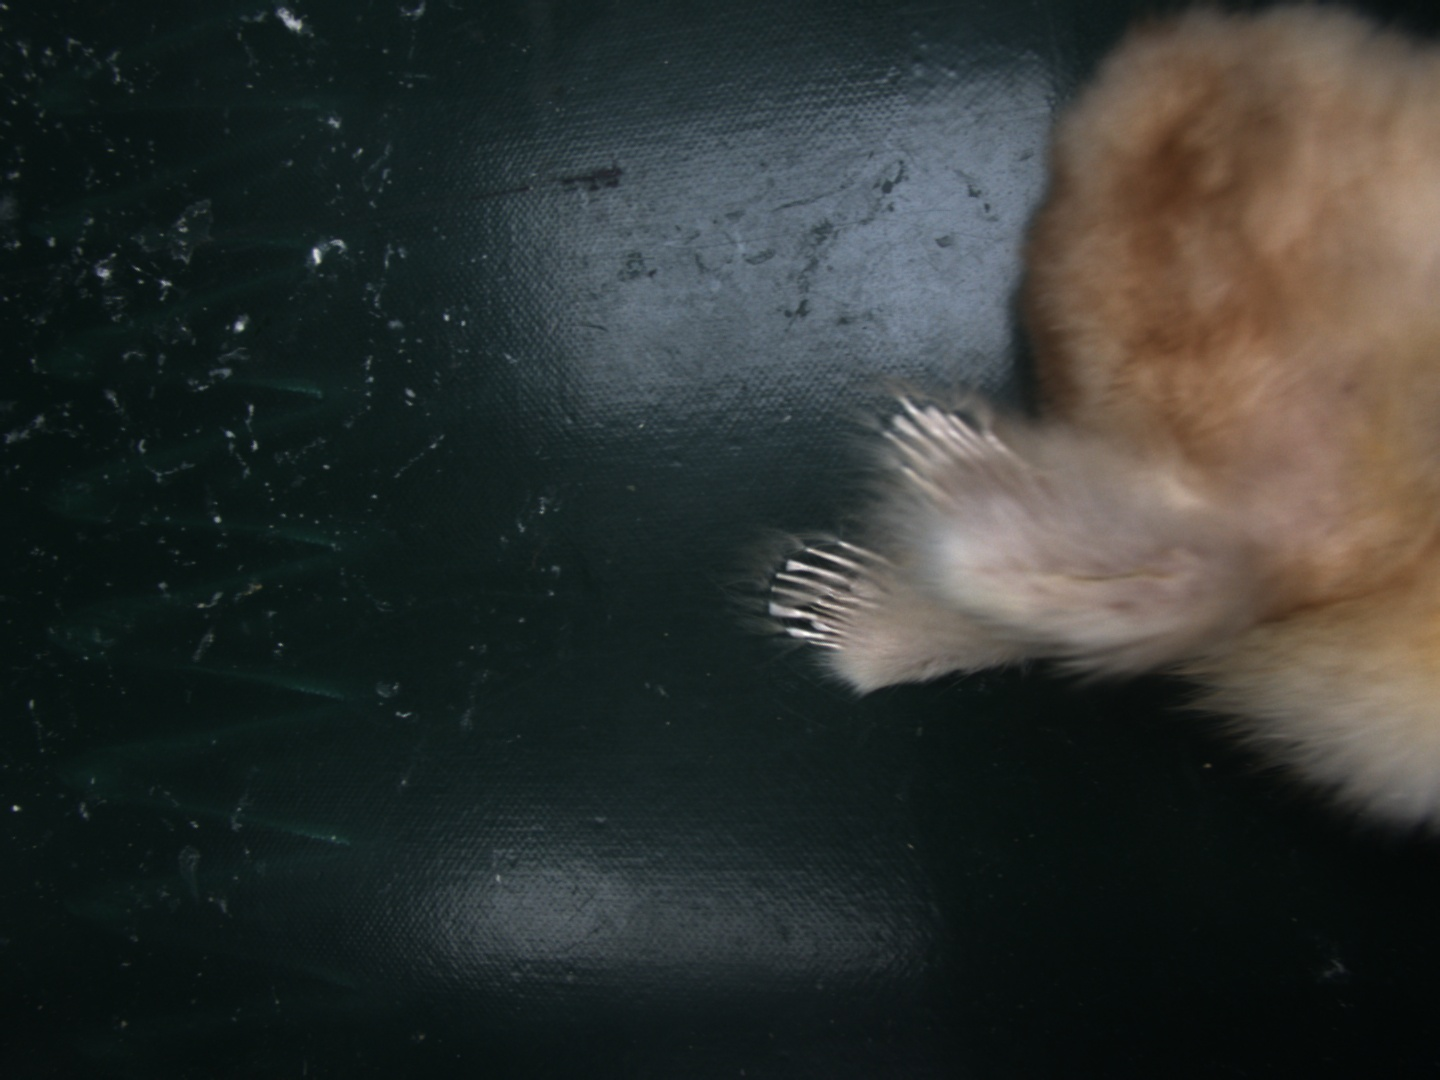female: (766, 538, 903, 651)
